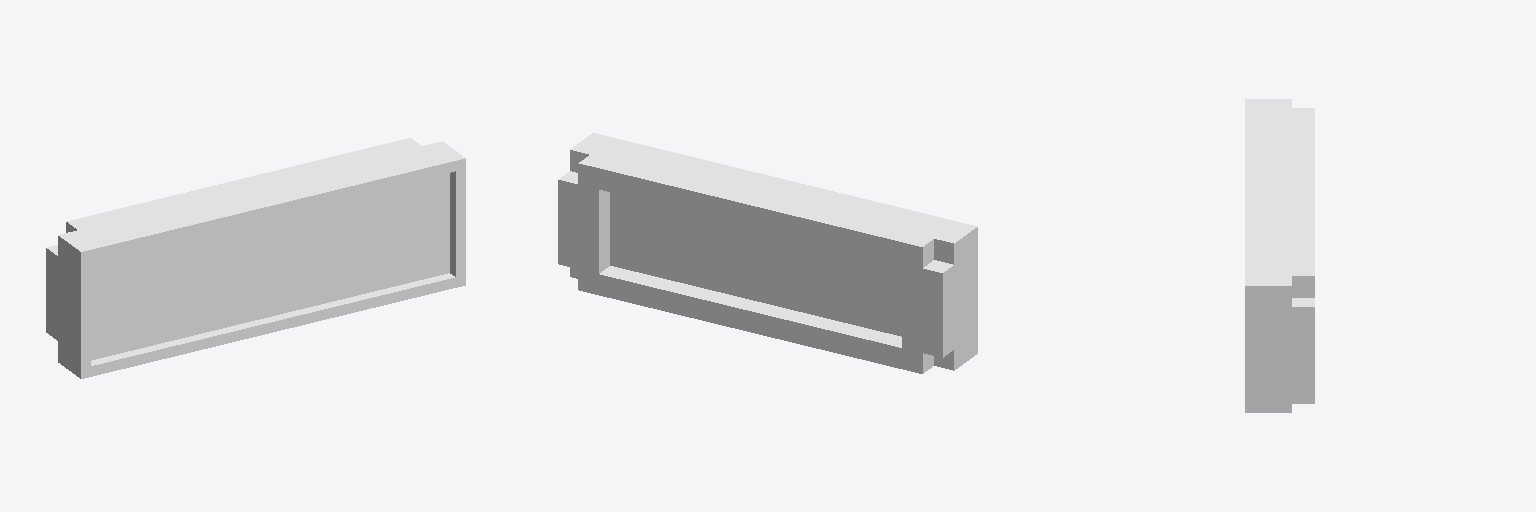
File: warningPanel.obj
3 views of the same model, side by side, from view 1: azimuth 30°, elevation 25°; view 2: azimuth 150°, elevation 25°; view 3: azimuth 270°, elevation 25° (orthographic).
Parts seen in each view (by area): view 1: object 1; view 2: object 1; view 3: object 1.
Part boxes in pixels (left/top/right/bottom): object 1: left=46, top=138, right=465, bottom=378; object 1: left=558, top=133, right=977, bottom=373; object 1: left=1245, top=99, right=1314, bottom=412.
Bounding box in the file's own units: 3.8 × 1.2 × 0.6.